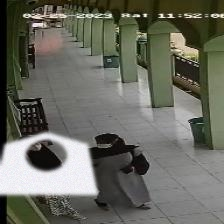Mukena: (0, 132, 97, 194)
